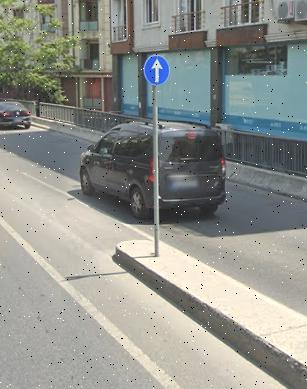forward: (142, 51, 172, 88)
